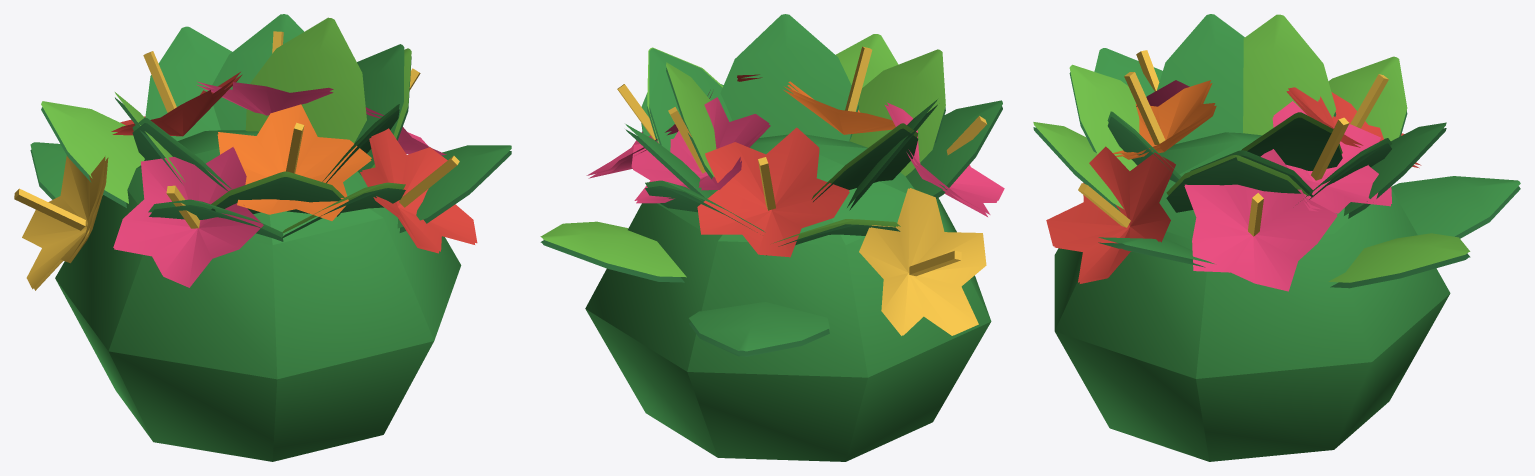
Rendered from Flores.fbx.
3 views of the same model, side by side, from view 1: azimuth 30°, elevation 25°; view 2: azimuth 150°, elevation 25°; view 3: azimuth 270°, elevation 25° (orthographic).
Visible parts, largest first — view 1: Flores; view 2: Flores; view 3: Flores.
Boxes of the visible parts, bbox=[...] form: Flores: bbox=[14, 14, 511, 461]; Flores: bbox=[540, 14, 1004, 461]; Flores: bbox=[1033, 14, 1520, 461].
Size of the model in its own units: 2.32 by 2.12 by 2.46.
Materials: 1 (1 with a texture image).
